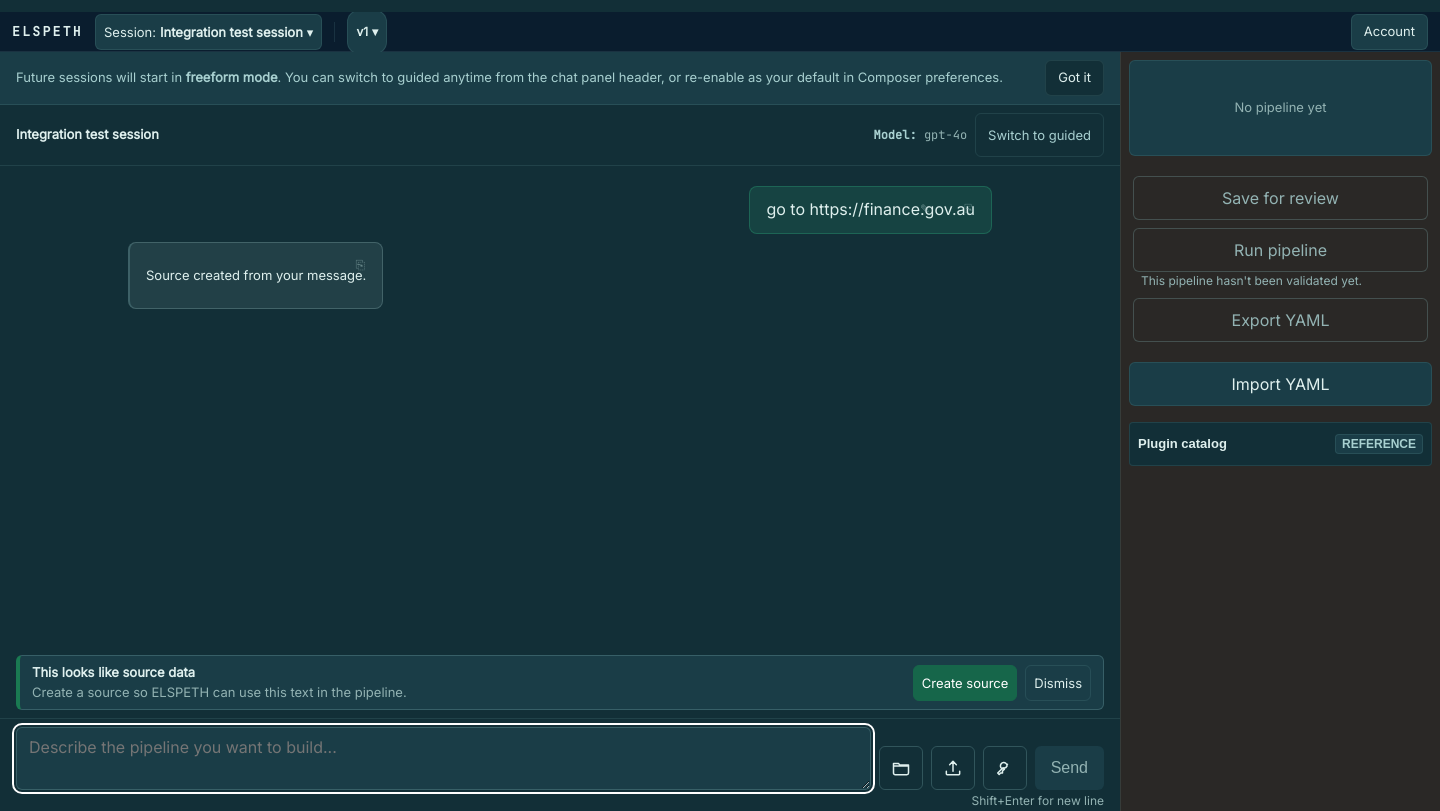
Test: Phase 5a Task 6 — chat input → set_pipeline → inline-source widget › llm_generated path — canonical demo prompt, widget renders WITH Edit button
In the text box named "Message input": coordinates (443, 759) [16, 727, 871, 790], type "create a list of 5 government web pages"
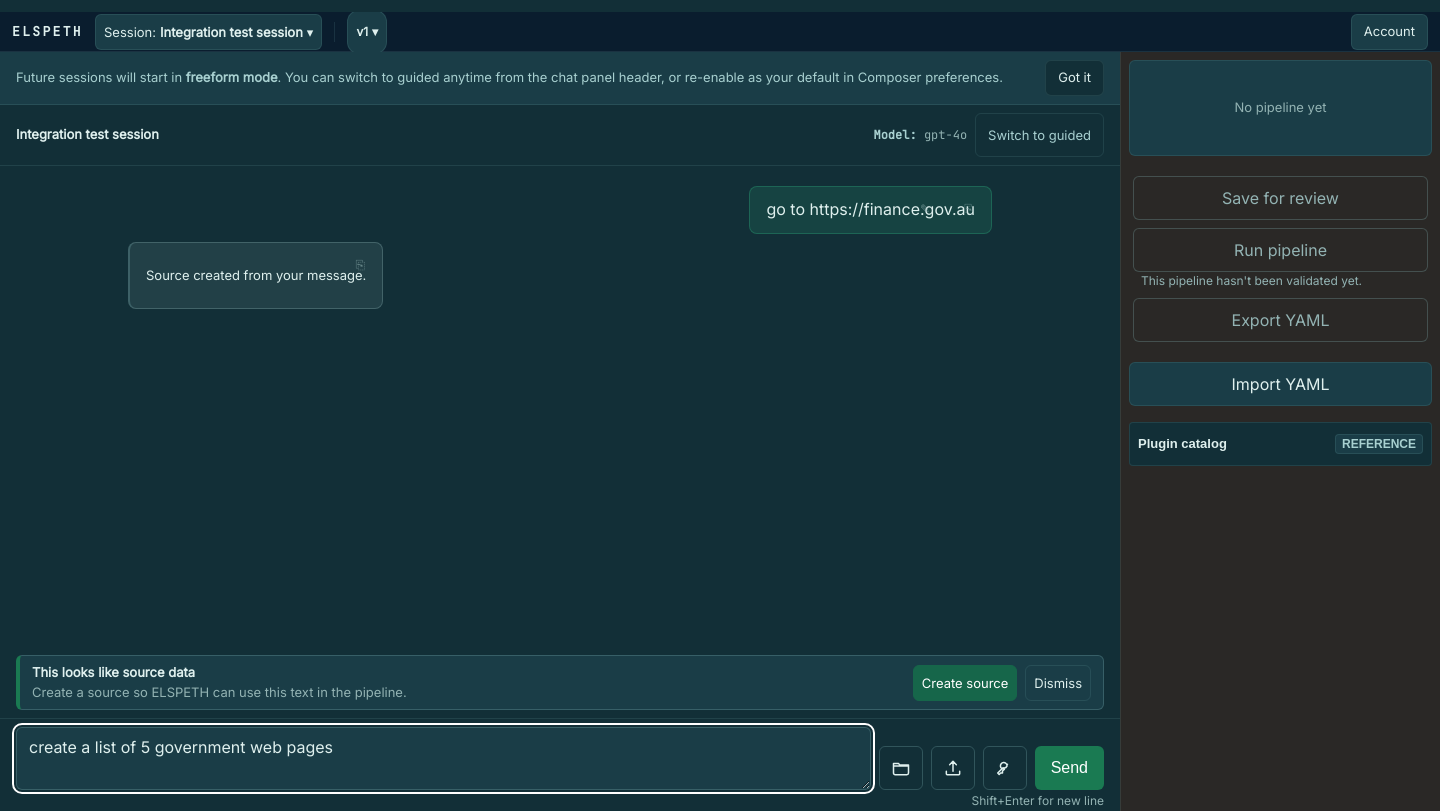
Click the button with aria-label "send message": coordinates (1069, 768) [1035, 746, 1104, 790]
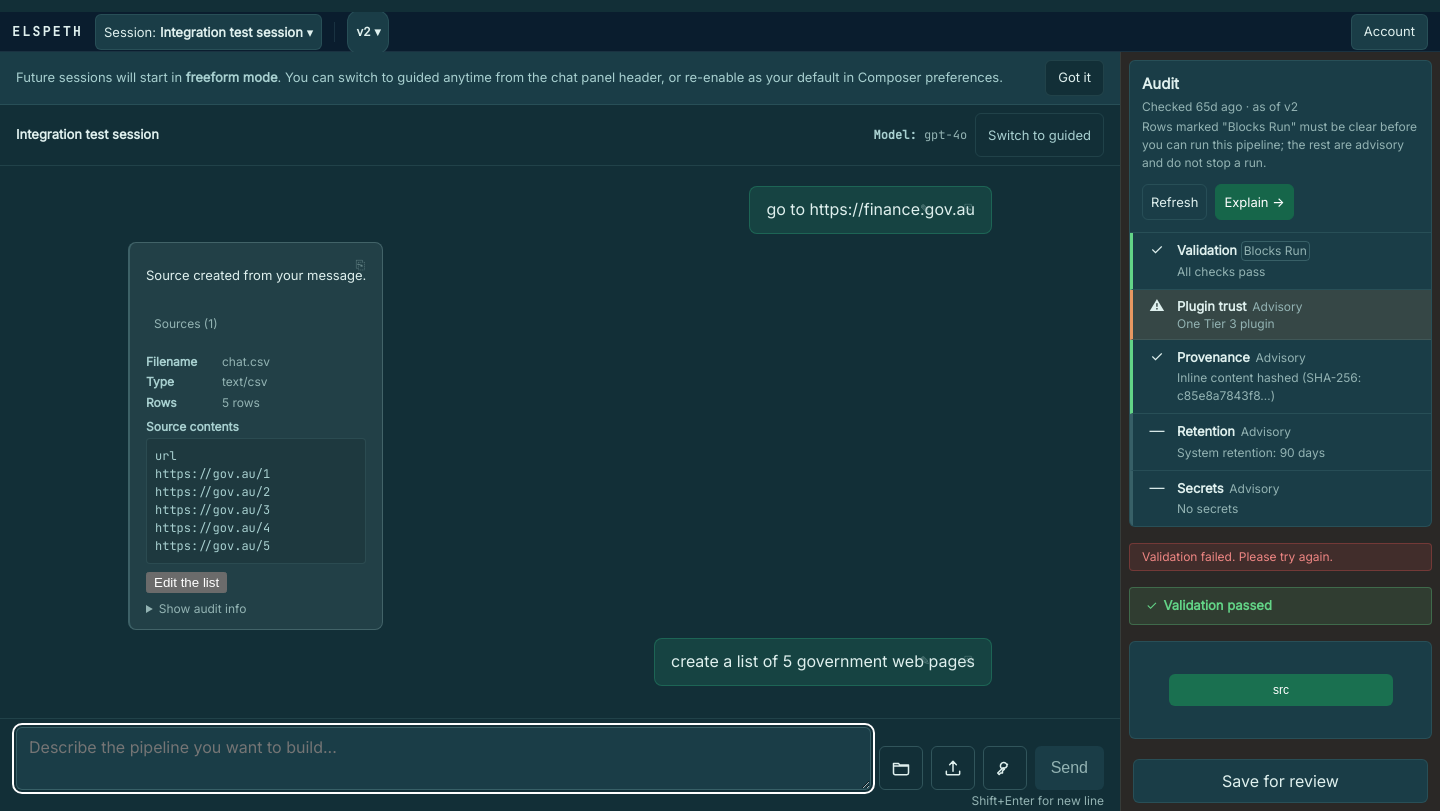
Now the element with test id "inline-source-created-turn" is shown, box [146, 350, 366, 617]
Now the button "Edit the list" is shown, box [146, 572, 227, 593]
Now the text "Inline content hashed (SHA-256: c85e8a7843f8…)" is shown, box [1177, 370, 1361, 403]
